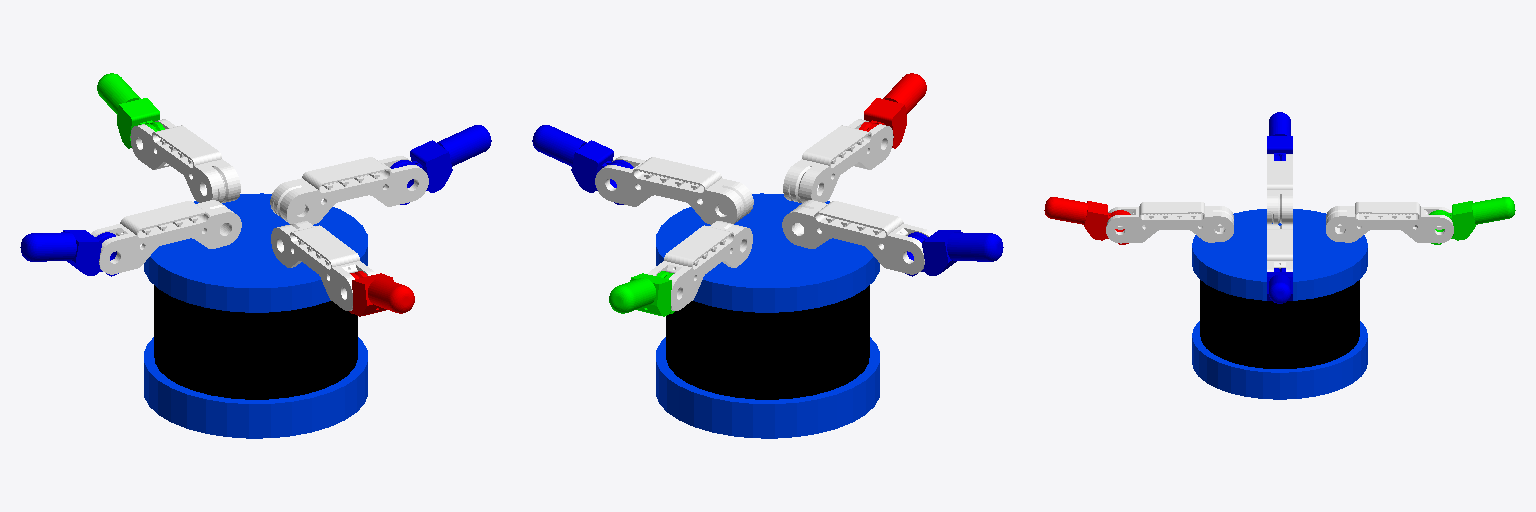
URDF robot description (model_q):
<?xml version="1.0" ?>
<robot name="model_q">

	<link name="world" />
	<link name="palm">
		<inertial>
			<origin xyz="0.000000 0.000000 0.0" />
			<mass value="0.0" />
			<inertia ixx="0." ixy="0.0" ixz="0.0" iyy="0.0"
				iyz="0.0" izz="0.0" />
		</inertial>
	</link>

	<link name="base_rot">
		<inertial>
			<origin xyz="0.000000 0.000000 0.0" />
			<mass value="0.0" />
			<inertia ixx="0." ixy="0.0" ixz="0.0" iyy="0.0"
				iyz="0.0" izz="0.0" />
		</inertial>
	</link>

	<link name="hand_coupler">
		<inertial>
			<origin xyz="0.000000 0.000000 0.025400" />
			<mass value="1.0" />
			<inertia ixx="1000.0" ixy="0.0" ixz="0.0" iyy="1000.0"
				iyz="0.0" izz="1000.0" />
		</inertial>
		<visual>
			<material name="lightlue">
				<color rgba="0. 0.3 1.0 1.0" />
			</material>
			<origin rpy="0 1.57079632679 0"
				xyz="0.000000 0.000000 0.000000" />
			<geometry>
				<cylinder length="0.01862" radius="0.0552" />
			</geometry>
		</visual>
		<collision>
			<origin rpy="0 1.57079632679 0"
				xyz="0.000000 0.000000 0.000000" />
			<geometry>
				<cylinder length="0.01862" radius="0.0552" />
			</geometry>
		</collision>
	</link>
	
	<link name="motor_space">
		<inertial>
			<origin xyz="0.000000 0.000000 0.025400" />
			<mass value="1.0" />
			<inertia ixx="1000.0" ixy="0.0" ixz="0.0" iyy="1000.0"
				iyz="0.0" izz="1000.0" />
		</inertial>
		<visual>
			<material name="black">
				<color rgba="0. 0. 0. 1.0" />
			</material>
			<origin rpy="0 1.57079632679 0"
				xyz="0.000000 0.000000 0.000000" />
			<geometry>
				<cylinder length="0.05762" radius="0.05" />
			</geometry>
		</visual>
		<collision>
			<origin rpy="0 1.57079632679 0"
				xyz="0.000000 0.000000 0.000000" />
			<geometry>
				<cylinder length="0.05762" radius="0.05" />
			</geometry>
		</collision>
	</link>
	
	<link name="simple_base">
		<inertial>
			<origin xyz="0.000000 0.000000 0.025400" />
			<mass value="1.0" />
			<inertia ixx="1000.0" ixy="0.0" ixz="0.0" iyy="1000.0"
				iyz="0.0" izz="1000.0" />
		</inertial>
		<visual>
			<material name="lightlue">
				<color rgba="0. 0.3 1.0 1.0" />
			</material>
			<origin rpy="0 1.57079632679 0"
				xyz="0.000000 0.000000 0.000000" />
			<geometry>
				<cylinder length="0.01312" radius="0.0552" />
			</geometry>
		</visual>
		<collision>
			<origin rpy="0 1.57079632679 0"
				xyz="0.000000 0.000000 0.000000" />
			<geometry>
				<cylinder length="0.01312" radius="0.0552" />
			</geometry>
		</collision>
	</link>

	<link name="prox_l">
		<inertial>
			<origin xyz="-0.015875 -0.009000 -0.071550" />
			<mass value="0.03" />
			<inertia ixx="1.0e-3" ixy="0.0" ixz="0.0" iyy="1.0e-3" iyz="0.0"
				izz="1.0e-3" />
		</inertial>
		<visual>
			<material name="white">
				<color rgba="1.0 1.0 1.0 1.0" />
			</material>
			<origin rpy="0 -3.141592 2.4" xyz="-0.00 0.0753 0.008" />
			<geometry>
				<mesh filename="meshes/hand/proximal.stl" />
			</geometry>
		</visual>
		<collision>
			<origin rpy="0 -3.141592 2.4" xyz="-0.00 0.0753 0.008" />
			<geometry>
                <mesh filename="meshes/hand/proximal.stl" />
			</geometry>
		</collision>
	</link>

	<link name="distal_l">
		<inertial>
			<origin xyz="-0.015875 -0.009000 -0.071550" />
			<mass value="0.015" />
			<inertia ixx="1.0e-3" ixy="0.0" ixz="0.0" iyy="1.0e-3" iyz="0.0"
				izz="1.0e-3" />
		</inertial>
		<visual>
			<material name="green">
				<color rgba=".0 1.0 .0 1.0" />
			</material>
			<origin rpy="1.5707963267948966 -1.5707963267948966 0.2" />
			<geometry>
				<mesh filename="meshes/hand/distal.stl" />
			</geometry>
		</visual>
		<collision>
			<origin rpy="1.5707963267948966 -1.5707963267948966 0.2" />
			<geometry>
				<mesh filename="meshes/hand/distal.stl" />
			</geometry>
		</collision>
	</link>

	<link name="prox_r">
		<inertial>
			<origin xyz="-0.015875 -0.009000 -0.071550" />
			<mass value="0.03" />
			<inertia ixx="1.0e-3" ixy="0.0" ixz="0.0" iyy="1.0e-3" iyz="0.0"
				izz="1.0e-3" />
		</inertial>
		<visual>
			<material name="white">
				<color rgba="1.0 1.0 1.0 1.0" />
			</material>
			<origin rpy="0 -3.141592 2.4" xyz="-0.00 0.0753 0.008" />
			<geometry>
				<mesh filename="meshes/hand/proximal.stl" />
			</geometry>
		</visual>
		<collision>
			<origin rpy="0 -3.141592 2.4" xyz="-0.00 0.0753 0.008" />
			<geometry>
				<mesh filename="meshes/hand/proximal.stl" />
			</geometry>
		</collision>
	</link>

	<link name="distal_r">
		<inertial>
			<origin xyz="-0.015875 -0.009000 -0.071550" />
			<mass value="0.015" />
			<inertia ixx="1.0e-3" ixy="0.0" ixz="0.0" iyy="1.0e-3" iyz="0.0"
				izz="1.0e-3" />
		</inertial>
		<visual>
			<material name="red">
				<color rgba="1.0 .0 .0 1.0" />
			</material>
			<origin rpy="1.5707963267948966 -1.5707963267948966 0.2" />
			<geometry>
				<mesh filename="meshes/hand/distal.stl"  />
			</geometry>
		</visual>
		<collision>
			<origin rpy="1.5707963267948966 -1.5707963267948966 0.2" />
			<geometry>
				<mesh filename="meshes/hand/distal.stl" />
			</geometry>
		</collision>
	</link>

	<link name="prox_cl">
		<inertial>
			<origin xyz="-0.015875 -0.009000 -0.071550" />
			<mass value="0.03" />
			<inertia ixx="1.0e-3" ixy="0.0" ixz="0.0" iyy="1.0e-3" iyz="0.0"
				izz="1.0e-3" />
		</inertial>
		<visual>
			<material name="white">
				<color rgba="1.0 1.0 1.0 1.0" />
			</material>
			<origin rpy="0 -3.141592 2.4" xyz="-0.00 0.0753 0.008" />
			<geometry>
				<mesh filename="meshes/hand/proximal.stl" />
			</geometry>
		</visual>
		<collision>
			<origin rpy="0 -3.141592 2.4" xyz="-0.00 0.0753 0.008" />
			<geometry>
				<mesh filename="meshes/hand/proximal.stl" />
			</geometry>
		</collision>
	</link>

	<link name="distal_cl">
		<inertial>
			<origin xyz="-0.015875 -0.009000 -0.071550" />
			<mass value="0.015" />
			<inertia ixx="1.0e-3" ixy="0.0" ixz="0.0" iyy="1.0e-3" iyz="0.0"
				izz="1.0e-3" />
		</inertial>
		<visual>
			<material name="blue">
				<color rgba=".0 .0 1.0 1.0" />
			</material>
			<origin rpy="1.5707963267948966 -1.5707963267948966 0.2" />
			<geometry>
				<mesh filename="meshes/hand/distal.stl" />
			</geometry>
		</visual>
		<collision>
			<origin rpy="1.5707963267948966 -1.5707963267948966 0.2" />
			<geometry>
				<mesh filename="meshes/hand/distal.stl" />
			</geometry>
		</collision>
	</link>

	<link name="prox_cr">
		<inertial>
			<origin xyz="-0.015875 -0.009000 -0.071550" />
			<mass value="0.03" />
			<inertia ixx="1.0e-3" ixy="0.0" ixz="0.0" iyy="1.0e-3" iyz="0.0"
				izz="1.0e-3" />
		</inertial>
		<visual>
			<material name="white">
				<color rgba="1.0 1.0 1.0 1.0" />
			</material>
			<origin rpy="0 -3.141592 2.4" xyz="-0.00 0.0753 0.008" />
			<geometry>
				<mesh filename="meshes/hand/proximal.stl" />
			</geometry>
		</visual>
		<collision>
			<origin rpy="0 -3.141592 2.4" xyz="-0.00 0.0753 0.008" />
			<geometry>
				<mesh filename="meshes/hand/proximal.stl" />
			</geometry>
		</collision>
	</link>

	<link name="distal_cr">
		<inertial>
			<origin xyz="-0.015875 -0.009000 -0.071550" />
			<mass value="0.015" />
			<inertia ixx="1.0e-3" ixy="0.0" ixz="0.0" iyy="1.0e-3" iyz="0.0"
				izz="1.0e-3" />
		</inertial>
		<visual>
			<material name="blue">
				<color rgba=".0 .0 1.0 1.0" />
			</material>
			<origin rpy="1.5707963267948966 -1.5707963267948966 0.2" />
			<geometry>
				<mesh filename="meshes/hand/distal.stl" />
			</geometry>
		</visual>
		<collision>
			<origin rpy="1.5707963267948966 -1.5707963267948966 0.2" />
			<geometry>
				<mesh filename="meshes/hand/distal.stl" />
			</geometry>
		</collision>
	</link>

	<joint name="fixed1" type="fixed">
		<origin rpy="0 1.57079632679 0" xyz="0. 0. 0." />
		<parent link="world" />
		<child link="hand_coupler" />
	</joint>

	<joint name="fixed2" type="fixed">
		<origin rpy="0 0 0" xyz="-0.03381 0.000000 0.000000" />
		<parent link="hand_coupler" />
		<child link="motor_space" />
	</joint>

	<joint name="fixed3" type="fixed">
		<origin rpy="0 0 0" xyz="-0.0315 -0.00 0.000000" />
		<parent link="motor_space" />
		<child link="simple_base" />
	</joint>

	<joint name="fixed_palm" type="fixed">
		<origin rpy="0 -1.57079632679 0" xyz="-0.007 0.00 0.000000" />
		<parent link="simple_base" />
		<child link="palm" />
	</joint>

	<joint name="base_rot_joint" type="revolute">
		<origin rpy="0 0 0" xyz="0 0.0 0.014" />
		<parent link="palm" />
		<child link="base_rot" />
		<limit effort="10" lower="-0.26179938779" upper="0.26179938779" velocity="50" />
		<axis xyz="0 0 1" />
	</joint>

	<joint name="prox_to_distal_r" type="revolute">
		<origin rpy="0 0 0" xyz="0.000800 0.062 0" />
		<parent link="prox_r" />
		<child link="distal_r" />
		<limit effort="10" lower="0.0" upper="1.24" velocity="50" />
		<axis xyz="0 0 1" />
		<dynamics damping="0.05" friction="0."/>
	</joint>

	<joint name="base_to_prox_r" type="revolute">
		<origin rpy="0 1.57079632679 3.141592" xyz="0 -0.038 0.014" />
		<parent link="palm" />
		<child link="prox_r" />
		<limit effort="10" lower="0.0" upper="2.0" velocity="50" />
		<axis xyz="0 0 1" />
		<dynamics damping="0.05" friction="0."/>
	</joint>

	<joint name="prox_to_distal_l" type="revolute">
		<origin rpy="0 0 0" xyz="0.000800 0.062 0" />
		<parent link="prox_l" />
		<child link="distal_l" />
		<limit effort="10" lower="0.0" upper="1.24" velocity="50" />
		<axis xyz="0 0 1" />
		<dynamics damping="0.05" friction="0."/>
	</joint>

	<joint name="base_to_prox_l" type="revolute">
		<origin rpy="0 1.57079632679 0" xyz="0 0.038 0.014" />
		<parent link="palm" />
		<child link="prox_l" />
		<limit effort="10" lower="0.0" upper="2.0" velocity="50" />
		<axis xyz="0 0 1" />
		<dynamics damping="0.05" friction="0."/>
	</joint>

	<joint name="prox_to_distal_cl" type="revolute">
		<origin rpy="0 0 0" xyz="0.000800 0.062 0" />
		<parent link="prox_cl" />
		<child link="distal_cl" />
		<limit effort="10" lower="0.0" upper="1.24" velocity="50" />
		<axis xyz="0 0 1" />
		<dynamics damping="0.05" friction="0."/>
	</joint>

	<joint name="base_to_prox_cl" type="revolute">
		<origin rpy="-1.57079632679 1.57079632679 0" xyz="-.022 0. 0.0" />
		<parent link="base_rot" />
		<child link="prox_cl" />
		<limit effort="10" lower="0.0" upper="2.0" velocity="50" />
		<axis xyz="0 0 1" />
		<dynamics damping="0.05" friction="0."/>
	</joint>

	<joint name="prox_to_distal_cr" type="revolute">
		<origin rpy="0 0 0" xyz="0.000800 0.062 0" />
		<parent link="prox_cr" />
		<child link="distal_cr" />
		<limit effort="10" lower="0.0" upper="1.24" velocity="50" />
		<axis xyz="0 0 1" />
		<dynamics damping="0.05" friction="0."/>
	</joint>

	<joint name="base_to_prox_cr" type="revolute">
		<origin rpy="1.57079632679 1.57079632679 0" xyz=".022 0. 0.0" />
		<parent link="base_rot" />
		<child link="prox_cr" />
		<limit effort="10" lower="0.0" upper="2.0" velocity="50" />
		<axis xyz="0 0 1" />
		<dynamics damping="0.05" friction="0."/>
	</joint>

</robot>

--- Render facts (derived) ---
3 views of the same robot in one strip: view 1: azimuth 30°, elevation 25°; view 2: azimuth 150°, elevation 25°; view 3: azimuth 270°, elevation 25° (orthographic).
Robot: model_q — 14 links, 13 joints (9 revolute, 4 fixed); root link world; default pose: all joints at 0.
Links seen in each view (by area): view 1: motor_space, simple_base, hand_coupler, prox_cr, prox_cl, prox_l, prox_r, distal_cr, distal_cl, distal_l, distal_r; view 2: motor_space, simple_base, hand_coupler, prox_cr, prox_cl, prox_r, prox_l, distal_cr, distal_cl, distal_r, distal_l; view 3: motor_space, simple_base, hand_coupler, prox_l, prox_r, distal_l, distal_r, prox_cl, prox_cr, distal_cl, distal_cr.
Link boxes in pixels (x1,y1,x2,y2): motor_space: (154,285,357,399); simple_base: (144,193,367,312); hand_coupler: (144,337,367,438); prox_cr: (270,156,428,224); prox_cl: (91,200,241,274); prox_l: (130,119,240,202); prox_r: (271,221,375,310); distal_cr: (390,125,491,204); distal_cl: (20,230,118,276); distal_l: (97,73,164,148); distal_r: (349,271,414,316); motor_space: (666,285,869,399); simple_base: (656,193,879,312); hand_coupler: (656,337,879,438); prox_cr: (595,156,753,224); prox_cl: (782,200,932,274); prox_r: (783,119,893,202); prox_l: (648,221,752,310); distal_cr: (532,125,633,204); distal_cl: (905,230,1003,276); distal_r: (859,73,926,148); distal_l: (609,271,674,316); motor_space: (1200,280,1359,368); simple_base: (1192,209,1367,300); hand_coupler: (1192,321,1367,399); prox_l: (1326,202,1453,243); prox_r: (1106,202,1233,243); distal_l: (1429,197,1515,244); distal_r: (1044,197,1130,244); prox_cl: (1267,154,1292,223); prox_cr: (1267,224,1292,271); distal_cl: (1267,112,1292,160); distal_cr: (1267,268,1292,303).
Size in the robot's own frame: 0.2633 by 0.2953 by 0.114 metres.
Meshes: 2 distinct files referenced, 8 mesh visuals loaded (2 binary STL).
